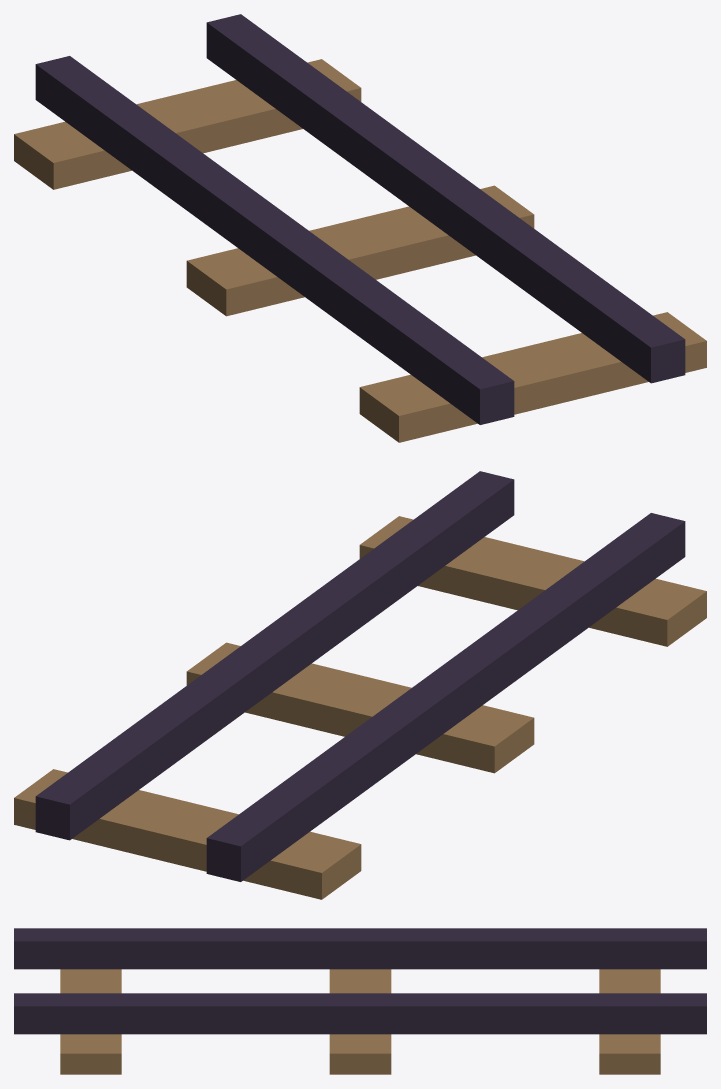
File: rail-segment.glb
3 renders of one model, top to bottom at view 1: azimuth 30°, elevation 25°; view 2: azimuth 150°, elevation 25°; view 3: azimuth 270°, elevation 25°, orthographic. The views are drawn at different scales.
Parts seen in each view (by area): view 1: wildwest-rail-segment; view 2: wildwest-rail-segment; view 3: wildwest-rail-segment.
Boxes of the visible parts, <box> form: wildwest-rail-segment: <box>14,14,706,442</box>; wildwest-rail-segment: <box>14,471,706,899</box>; wildwest-rail-segment: <box>14,928,706,1074</box>.
Bounding box in the file's own units: 0.36 × 0.07 × 0.9.
